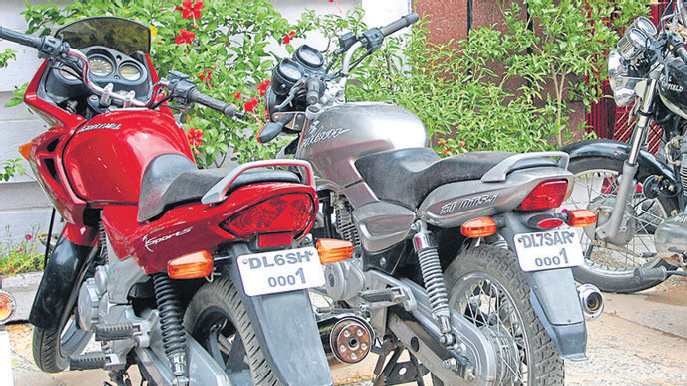number_plate: (234, 246, 327, 296), (512, 230, 591, 273)
